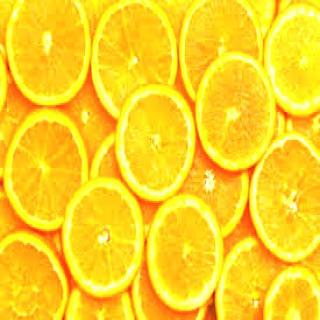orange: (55, 169, 146, 301), (194, 50, 284, 182), (113, 84, 201, 212), (147, 182, 223, 312)
